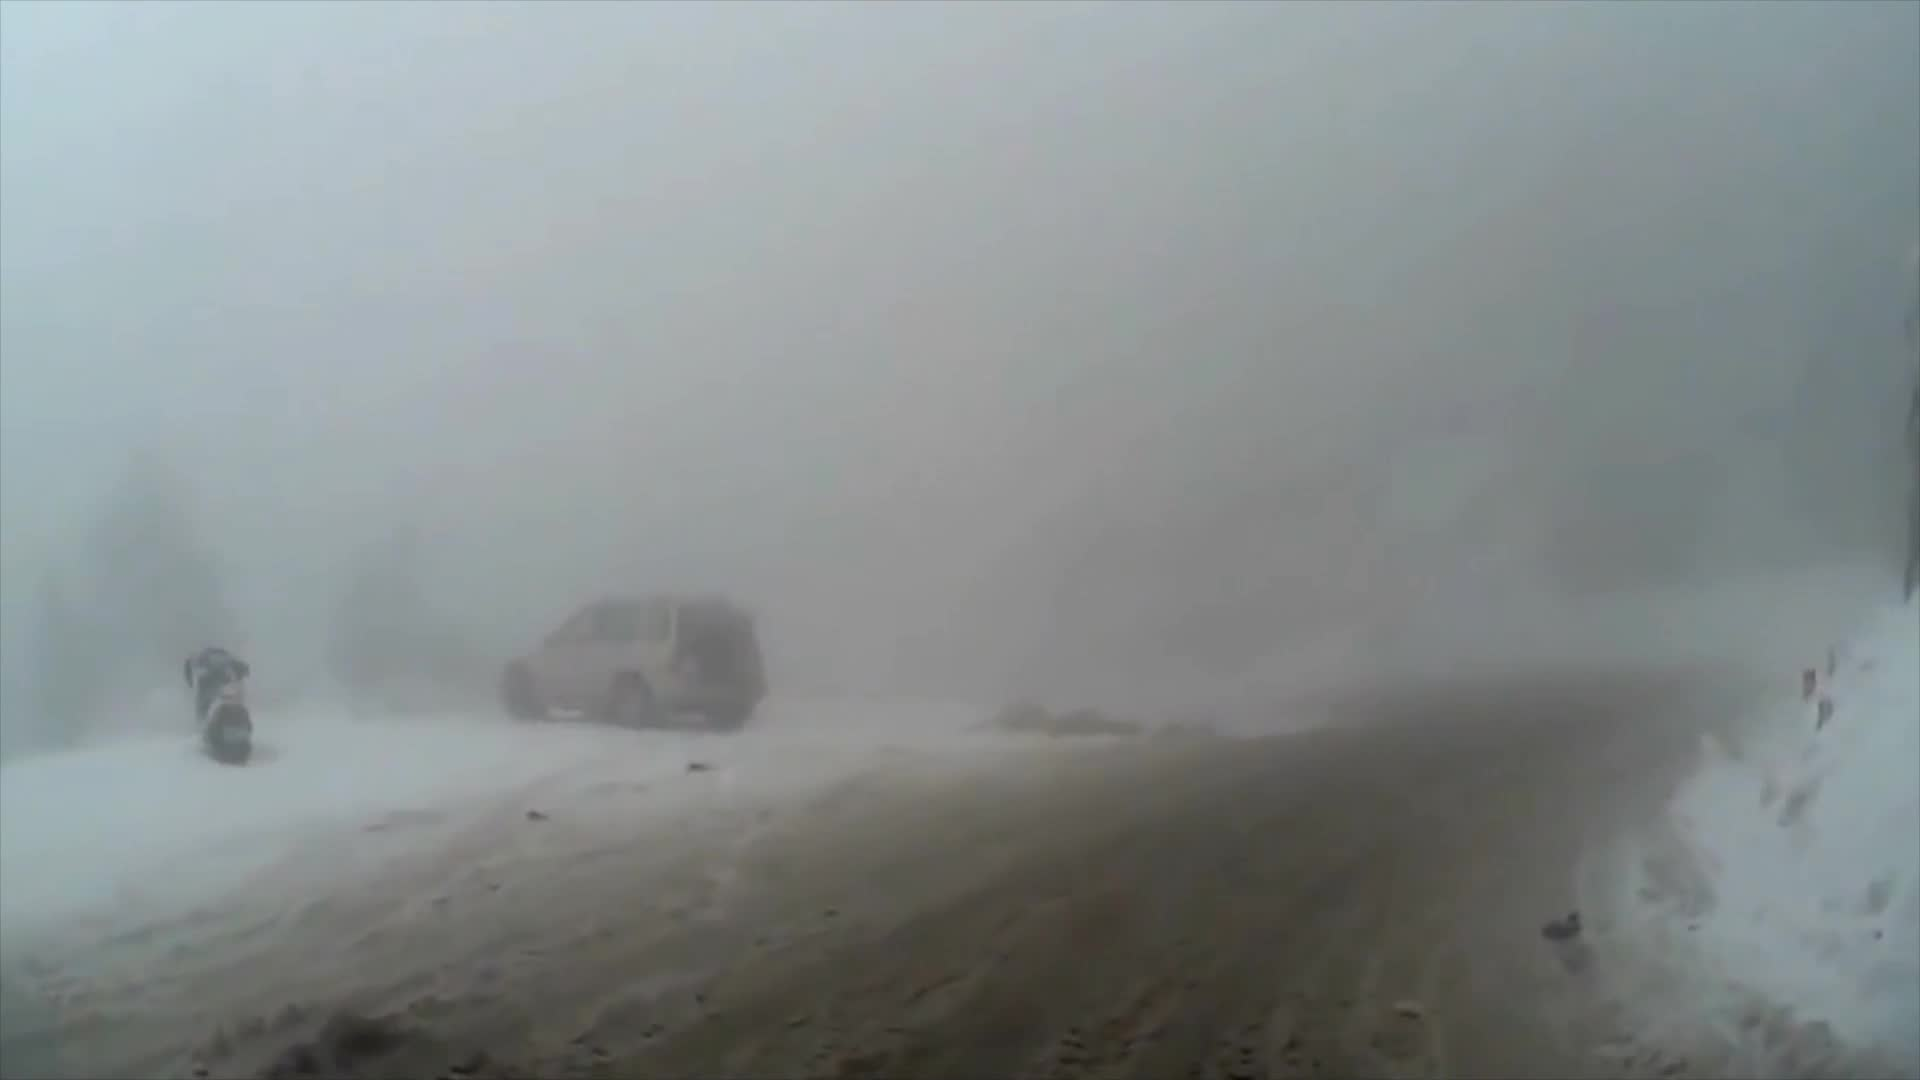vehicle: (496, 589, 766, 731)
